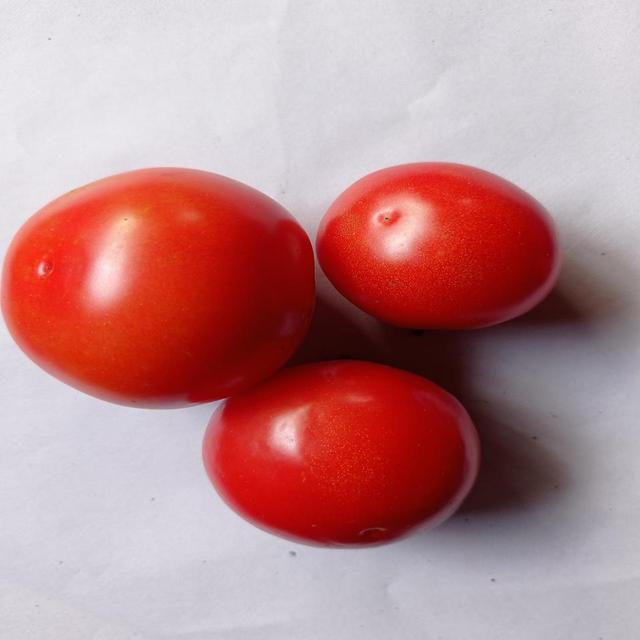Healthy Fruit: (108, 119, 294, 303)
